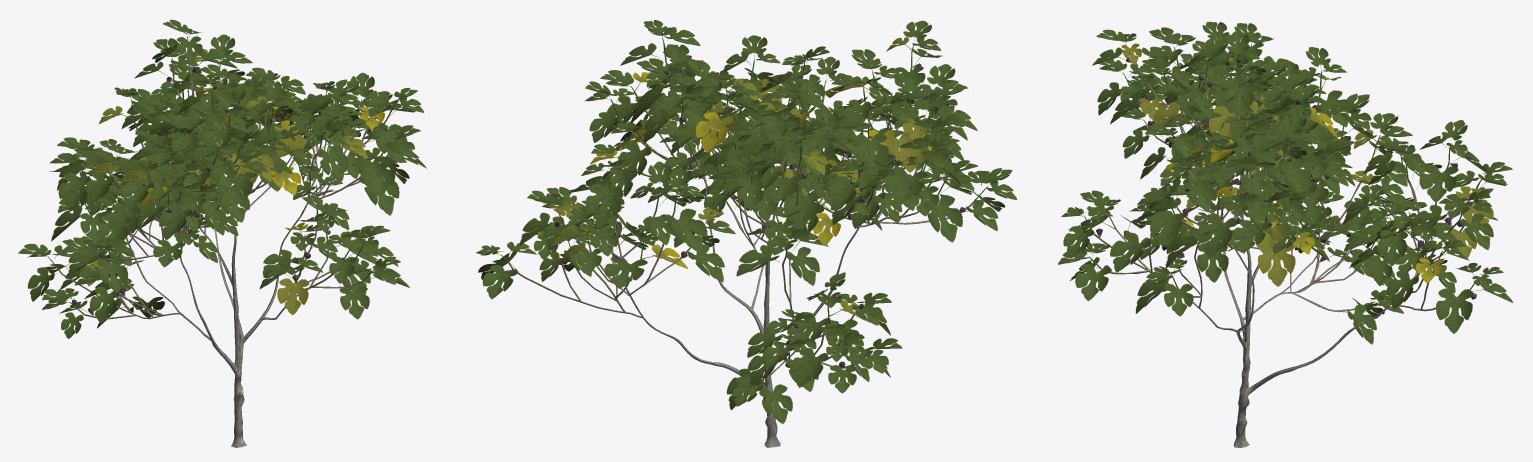
File: fig.glb
3 views of the same model, side by side, from view 1: azimuth 30°, elevation 25°; view 2: azimuth 150°, elevation 25°; view 3: azimuth 270°, elevation 25° (orthographic). The views are drawn at different scales.
Visible parts, largest first — view 1: Ficus_carica_HD; view 2: Ficus_carica_HD; view 3: Ficus_carica_HD.
Boxes of the visible parts, x1,y1,x2,y2 form: Ficus_carica_HD: [18, 19, 426, 447]; Ficus_carica_HD: [476, 20, 1017, 447]; Ficus_carica_HD: [1058, 21, 1513, 447].
Bounding box in the file's own units: 2.11 × 2.06 × 2.22.
12 materials, 12 textured.
